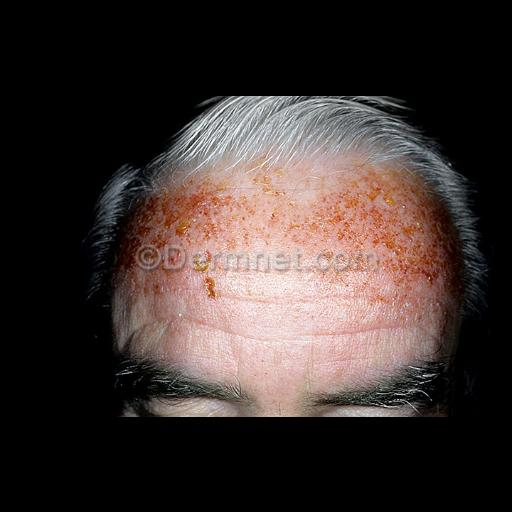Skin_Lesion: (324, 196, 410, 258), (138, 194, 182, 290), (262, 208, 316, 246), (194, 192, 234, 238), (418, 219, 450, 269), (194, 256, 222, 304)
